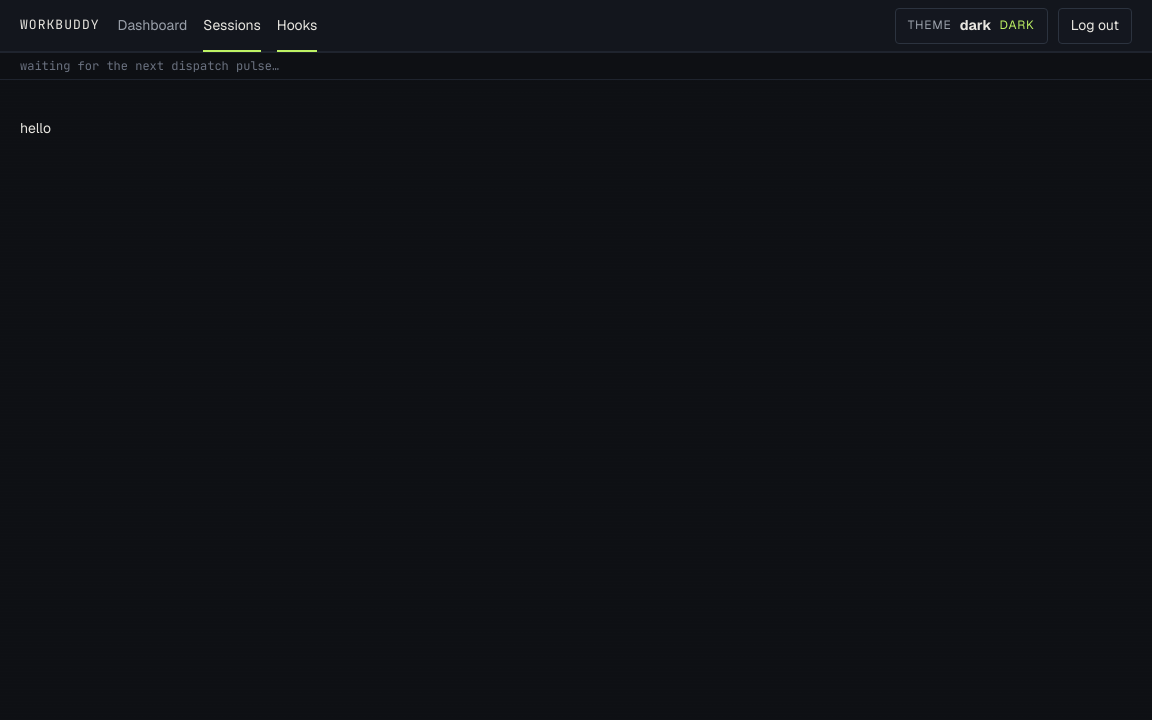
it: Layout shell › cycles theme mode and persists it to localStorage
Click the button with aria-label "Theme mode dark": (971, 26) [895, 8, 1048, 44]
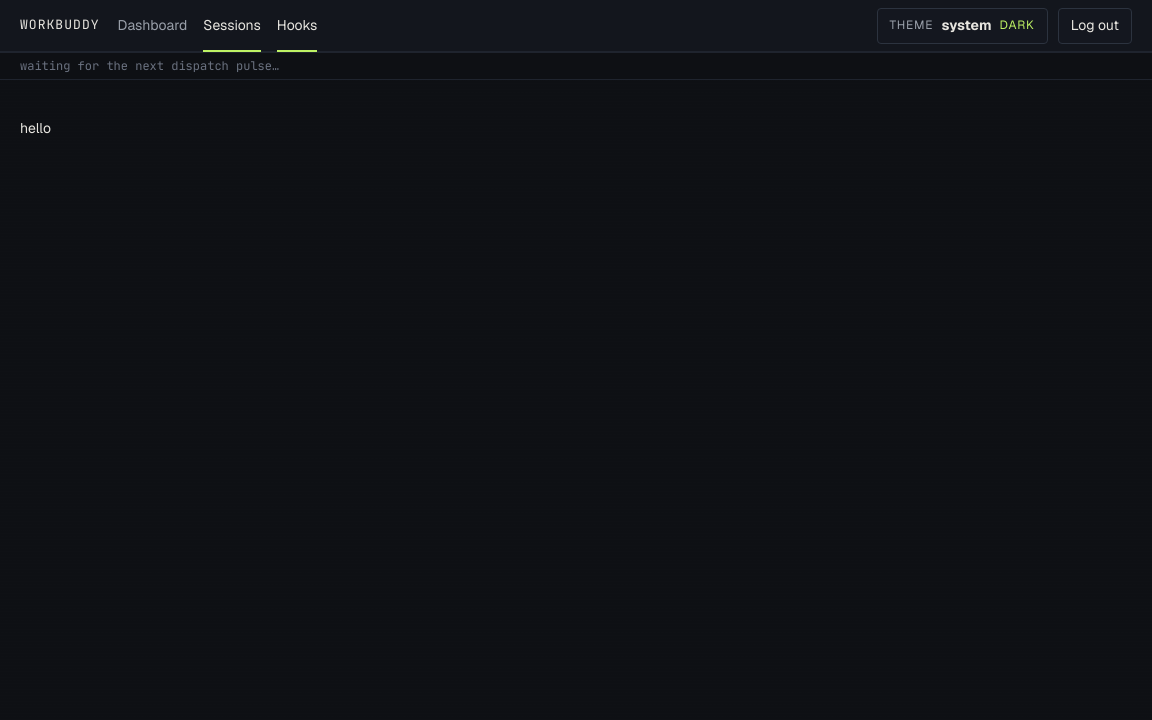
Now the text "system" is shown, box [942, 15, 992, 36]
Click the button named "Theme mode dark": (962, 26) [876, 8, 1048, 44]
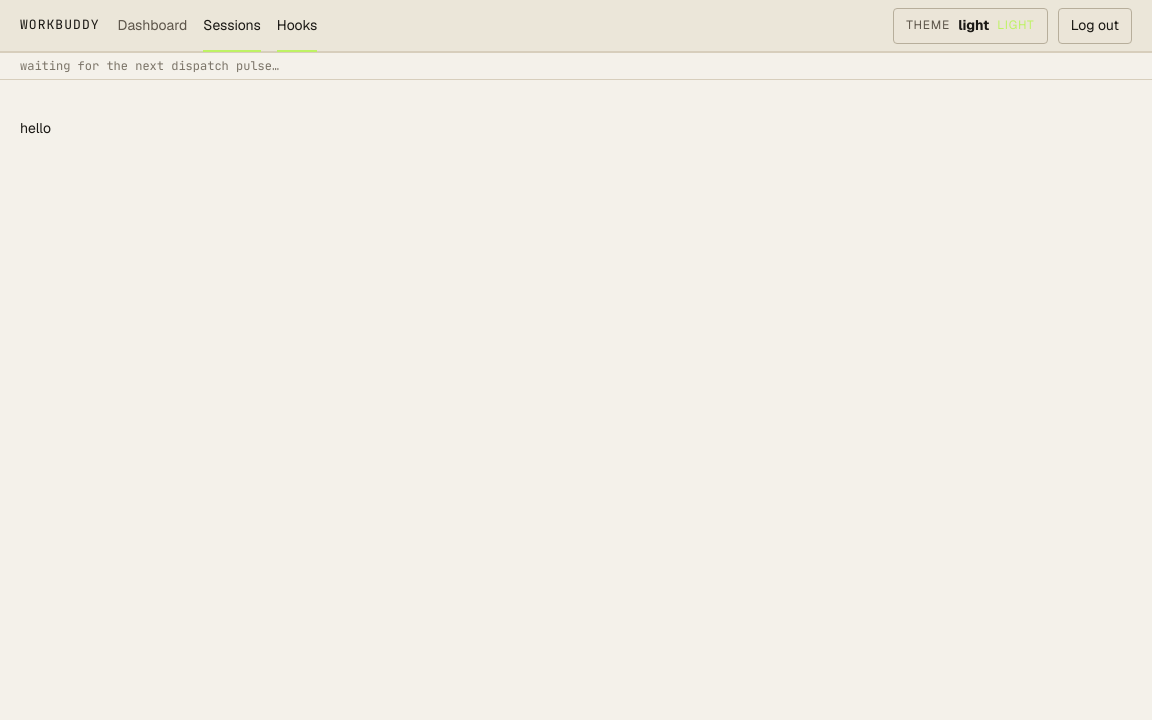
Now the 1st text "light" is shown, box [958, 15, 989, 36]
